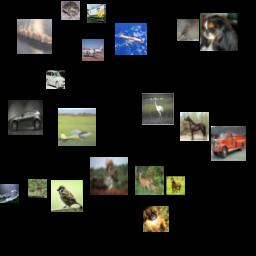airplane: (58, 108, 96, 146), (115, 23, 147, 55), (82, 39, 104, 61)
automobile: (8, 100, 43, 135), (46, 70, 65, 89)
bird: (142, 93, 174, 125), (51, 180, 83, 212), (177, 19, 199, 41)
deer: (90, 157, 128, 195), (135, 166, 164, 195), (28, 179, 47, 198)
dog: (200, 13, 238, 51), (143, 206, 169, 232)
frog: (61, 1, 80, 20)
ship: (17, 19, 52, 54), (0, 184, 19, 203)
truck: (211, 126, 246, 161), (87, 4, 106, 23)
